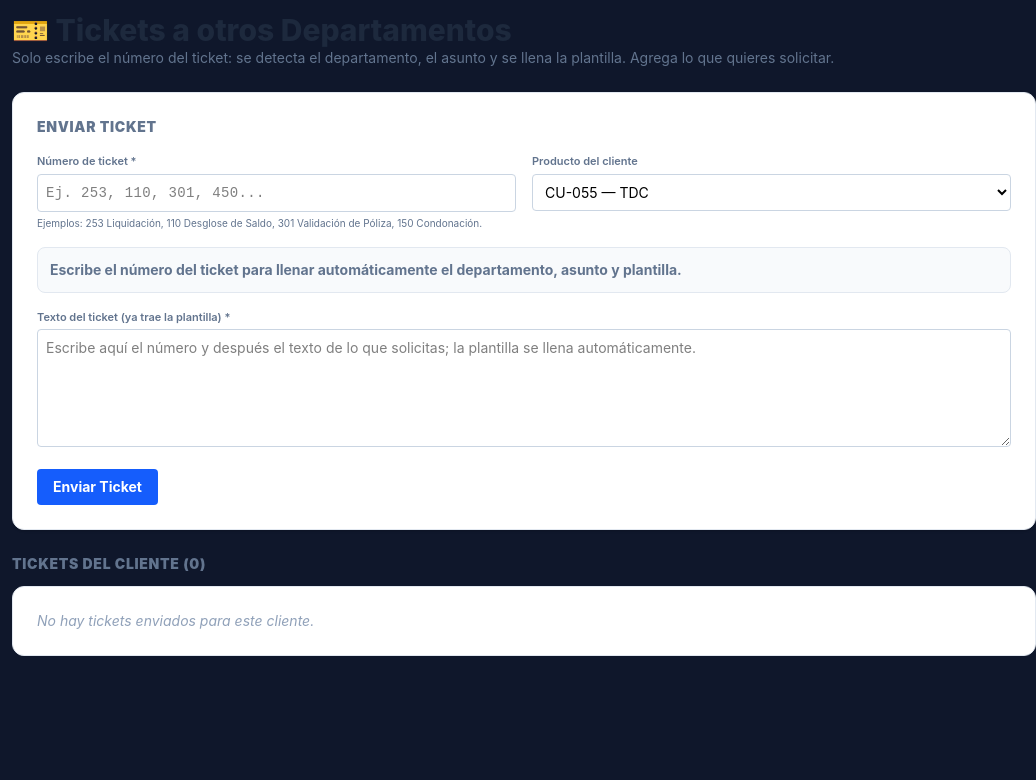
Test: TicketsTab: envio › cae a un mensaje generico cuando la respuesta no es texto
This screenshot has width=1036, height=780.
In the field with placeholder "Ej. 253, 110, 301, 450...": (276, 192) top-left (37, 174), bottom-right (516, 212), type "118"
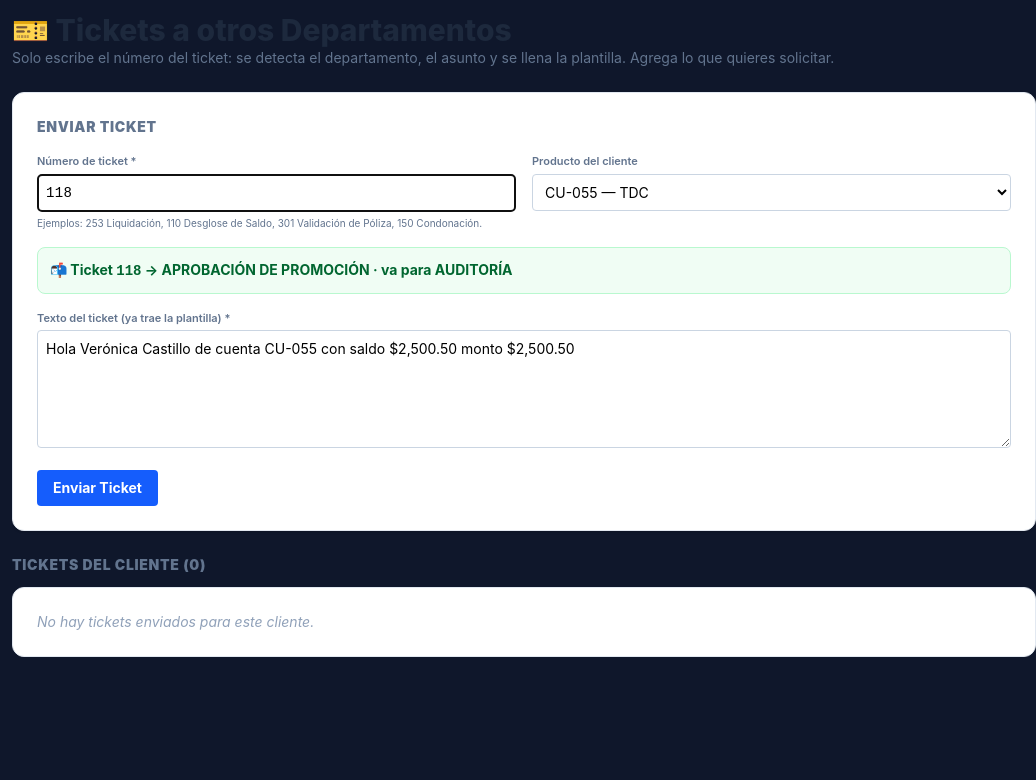
Click the button "Enviar Ticket": (98, 488) top-left (37, 470), bottom-right (158, 506)
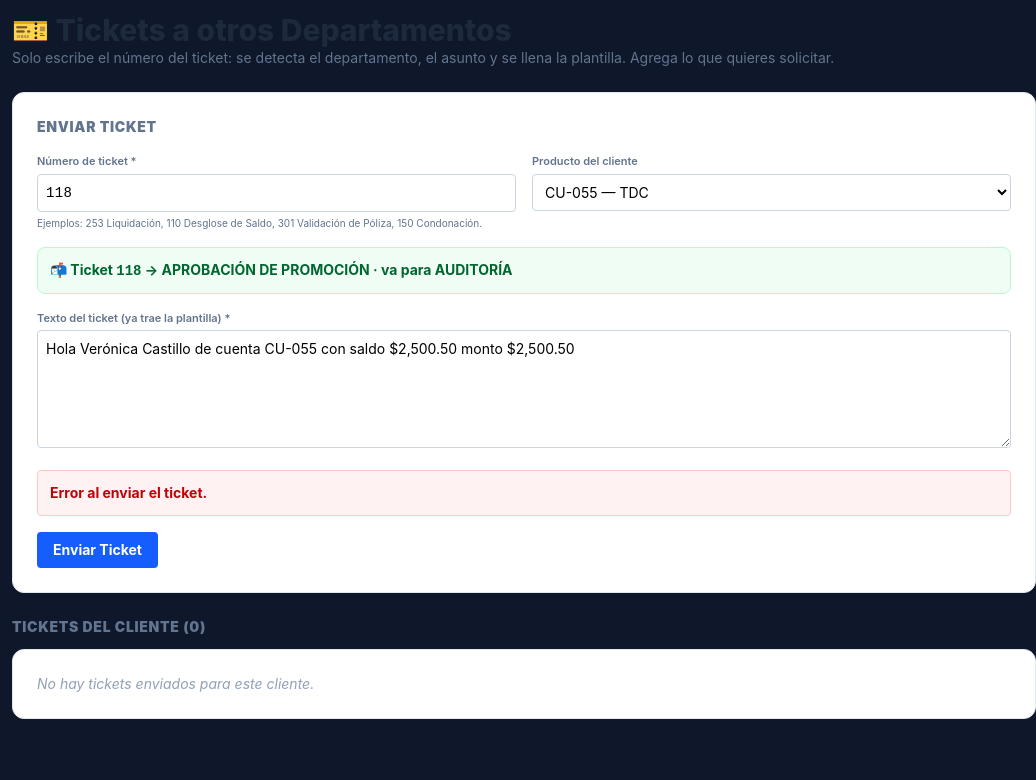
Expected: the text "Error al enviar el ticket." is shown, top-left (37, 470), bottom-right (1011, 516)
